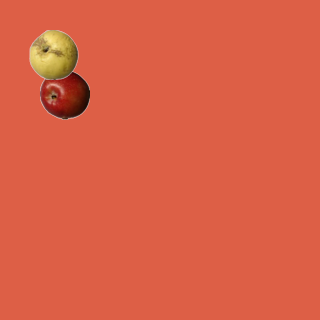Apple Braeburn: (39, 69, 89, 119)
Apple Golden 1: (28, 29, 78, 79)
